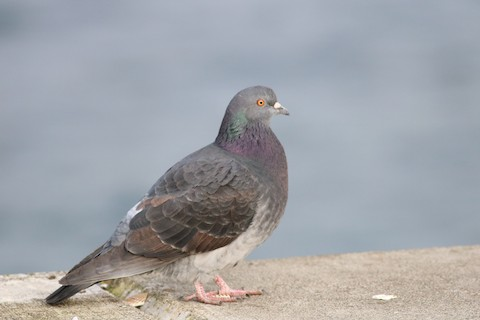pigeon: (44, 81, 293, 315)
